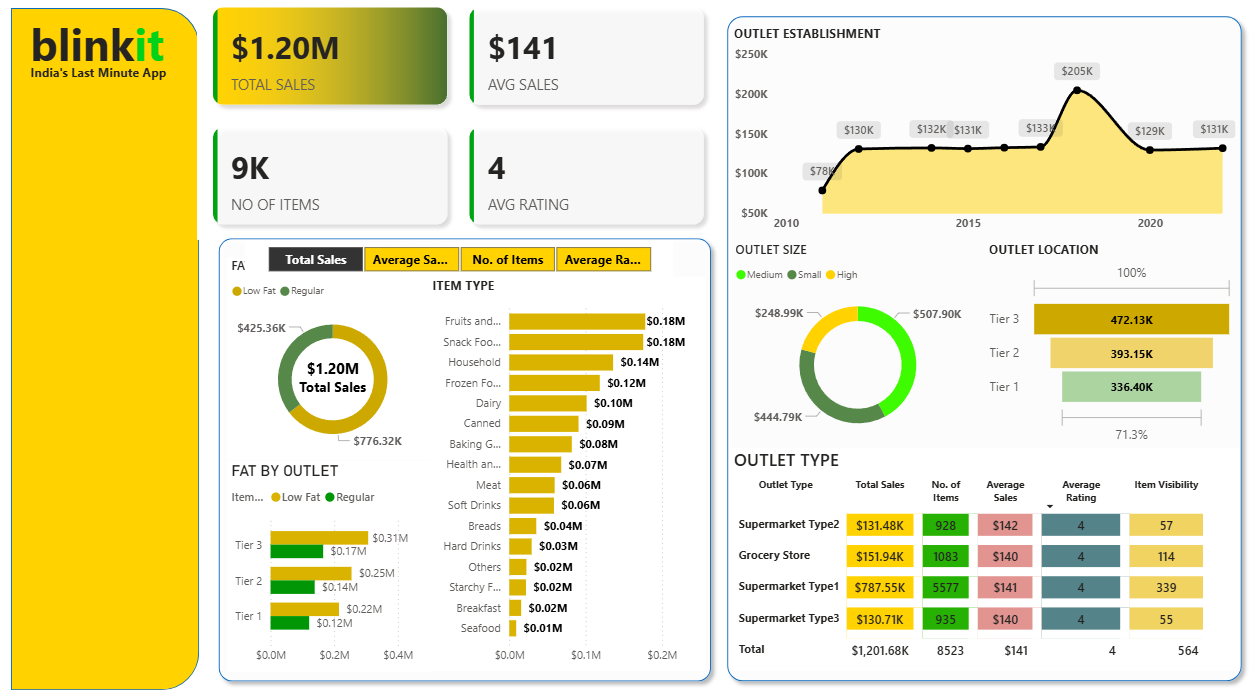

The dashboard page shown, as its layout file describes it:
{"tool":"powerbi","page":{"name":"Blinkit Dashboard","canvas":[1400,800],"ordinal":0},"visuals":[{"type":"shape","box":[32,43.1,204.5,741.4],"z":0},{"type":"textbox","box":[49.5,43.1,167.8,83.1],"z":1000},{"type":"textbox","box":[49.5,97.5,166.2,28.8],"z":2000},{"type":"cardVisual","fields":{"Data":["BlinkIT Grocery Data.Total Sales","BlinkIT Grocery Data.Average Sales","BlinkIT Grocery Data.No. of Items","BlinkIT Grocery Data.Average Rating"]},"box":[234.8,24.4,569.3,270.3],"z":3000},{"type":"shape","box":[249.8,284.3,553,499.6],"z":4000},{"type":"donutChart","title":"FAT CONTENT","fields":{"Y":["BlinkIT Grocery Data.Total Sales"],"Category":["BlinkIT Grocery Data.Item Fat Content"]},"box":[267,313.5,229.1,220.5],"z":5000},{"type":"slicer","fields":{"Values":["Metrics.Metrics"]},"box":[287.7,294.6,465.1,39.6],"z":6000},{"type":"cardVisual","fields":{"Data":["BlinkIT Grocery Data.Total Sales"]},"box":[298,385.9,168.8,113.7],"z":7000},{"type":"clusteredBarChart","title":"FAT BY OUTLET","fields":{"Y":["BlinkIT Grocery Data.Total Sales"],"Category":["BlinkIT Grocery Data.Outlet Location Type"],"Series":["BlinkIT Grocery Data.Item Fat Content"]},"box":[267,534.1,218.8,229.1],"z":8000},{"type":"barChart","title":"ITEM TYPE","fields":{"Y":["BlinkIT Grocery Data.Total Sales"],"Category":["BlinkIT Grocery Data.Item Type"]},"box":[485.8,334.2,301.5,429],"z":9000},{"type":"shape","box":[802.8,43.1,577.1,740.8],"z":10000},{"type":"lineChart","title":"OUTLET ESTABLISHMENT","fields":{"Y":["BlinkIT Grocery Data.Total Sales"],"Category":["BlinkIT Grocery Data.Outlet Establishment Year"]},"box":[813.1,60.3,554.7,234.3],"z":11000},{"type":"donutChart","title":"OUTLET SIZE","fields":{"Y":["BlinkIT Grocery Data.Total Sales"],"Category":["BlinkIT Grocery Data.Outlet Size"]},"box":[814.9,294.6,275,225],"z":12000},{"type":"funnel","title":"OUTLET LOCATION","fields":{"Y":["Sum(BlinkIT Grocery Data.Sales)"],"Category":["BlinkIT Grocery Data.Outlet Location Type"]},"box":[1090.5,294.6,275.6,225.7],"z":13000},{"type":"pivotTable","title":"OUTLET TYPE","fields":{"Rows":["BlinkIT Grocery Data.Outlet Type"],"Values":["BlinkIT Grocery Data.Total Sales","BlinkIT Grocery Data.No. of Items","BlinkIT Grocery Data.Average Sales","BlinkIT Grocery Data.Average Rating","Sum(BlinkIT Grocery Data.Item Visibility)"]},"box":[813.1,520.3,554.7,242.9],"z":14000}]}

Visuals, with their boxes in screenshot pixels (x1, y1, x2, y2), scaled from the page's 1400x800 canvas onto the 1253x698 screenshot:
shape: [x1=29, y1=38, x2=212, y2=684]
textbox: [x1=44, y1=38, x2=194, y2=110]
textbox: [x1=44, y1=85, x2=193, y2=110]
cardVisual - BlinkIT Grocery Data.Total Sales x BlinkIT Grocery Data.Average Sales: [x1=210, y1=21, x2=720, y2=257]
shape: [x1=224, y1=248, x2=719, y2=684]
"FAT CONTENT" donutChart: [x1=239, y1=274, x2=444, y2=466]
slicer - Metrics.Metrics: [x1=257, y1=257, x2=674, y2=292]
cardVisual - BlinkIT Grocery Data.Total Sales: [x1=267, y1=337, x2=418, y2=436]
"FAT BY OUTLET" clusteredBarChart: [x1=239, y1=466, x2=435, y2=666]
"ITEM TYPE" barChart: [x1=435, y1=292, x2=705, y2=666]
shape: [x1=719, y1=38, x2=1235, y2=684]
"OUTLET ESTABLISHMENT" lineChart: [x1=728, y1=53, x2=1224, y2=257]
"OUTLET SIZE" donutChart: [x1=729, y1=257, x2=975, y2=453]
"OUTLET LOCATION" funnel: [x1=976, y1=257, x2=1223, y2=454]
"OUTLET TYPE" pivotTable: [x1=728, y1=454, x2=1224, y2=666]
